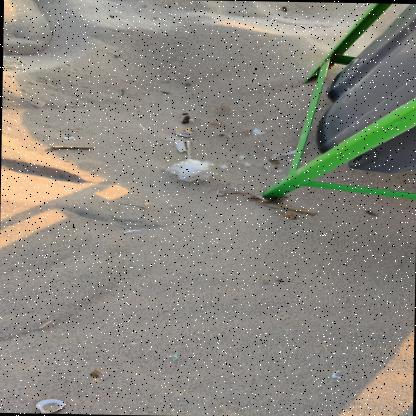Plastic film: (160, 158, 218, 181)
